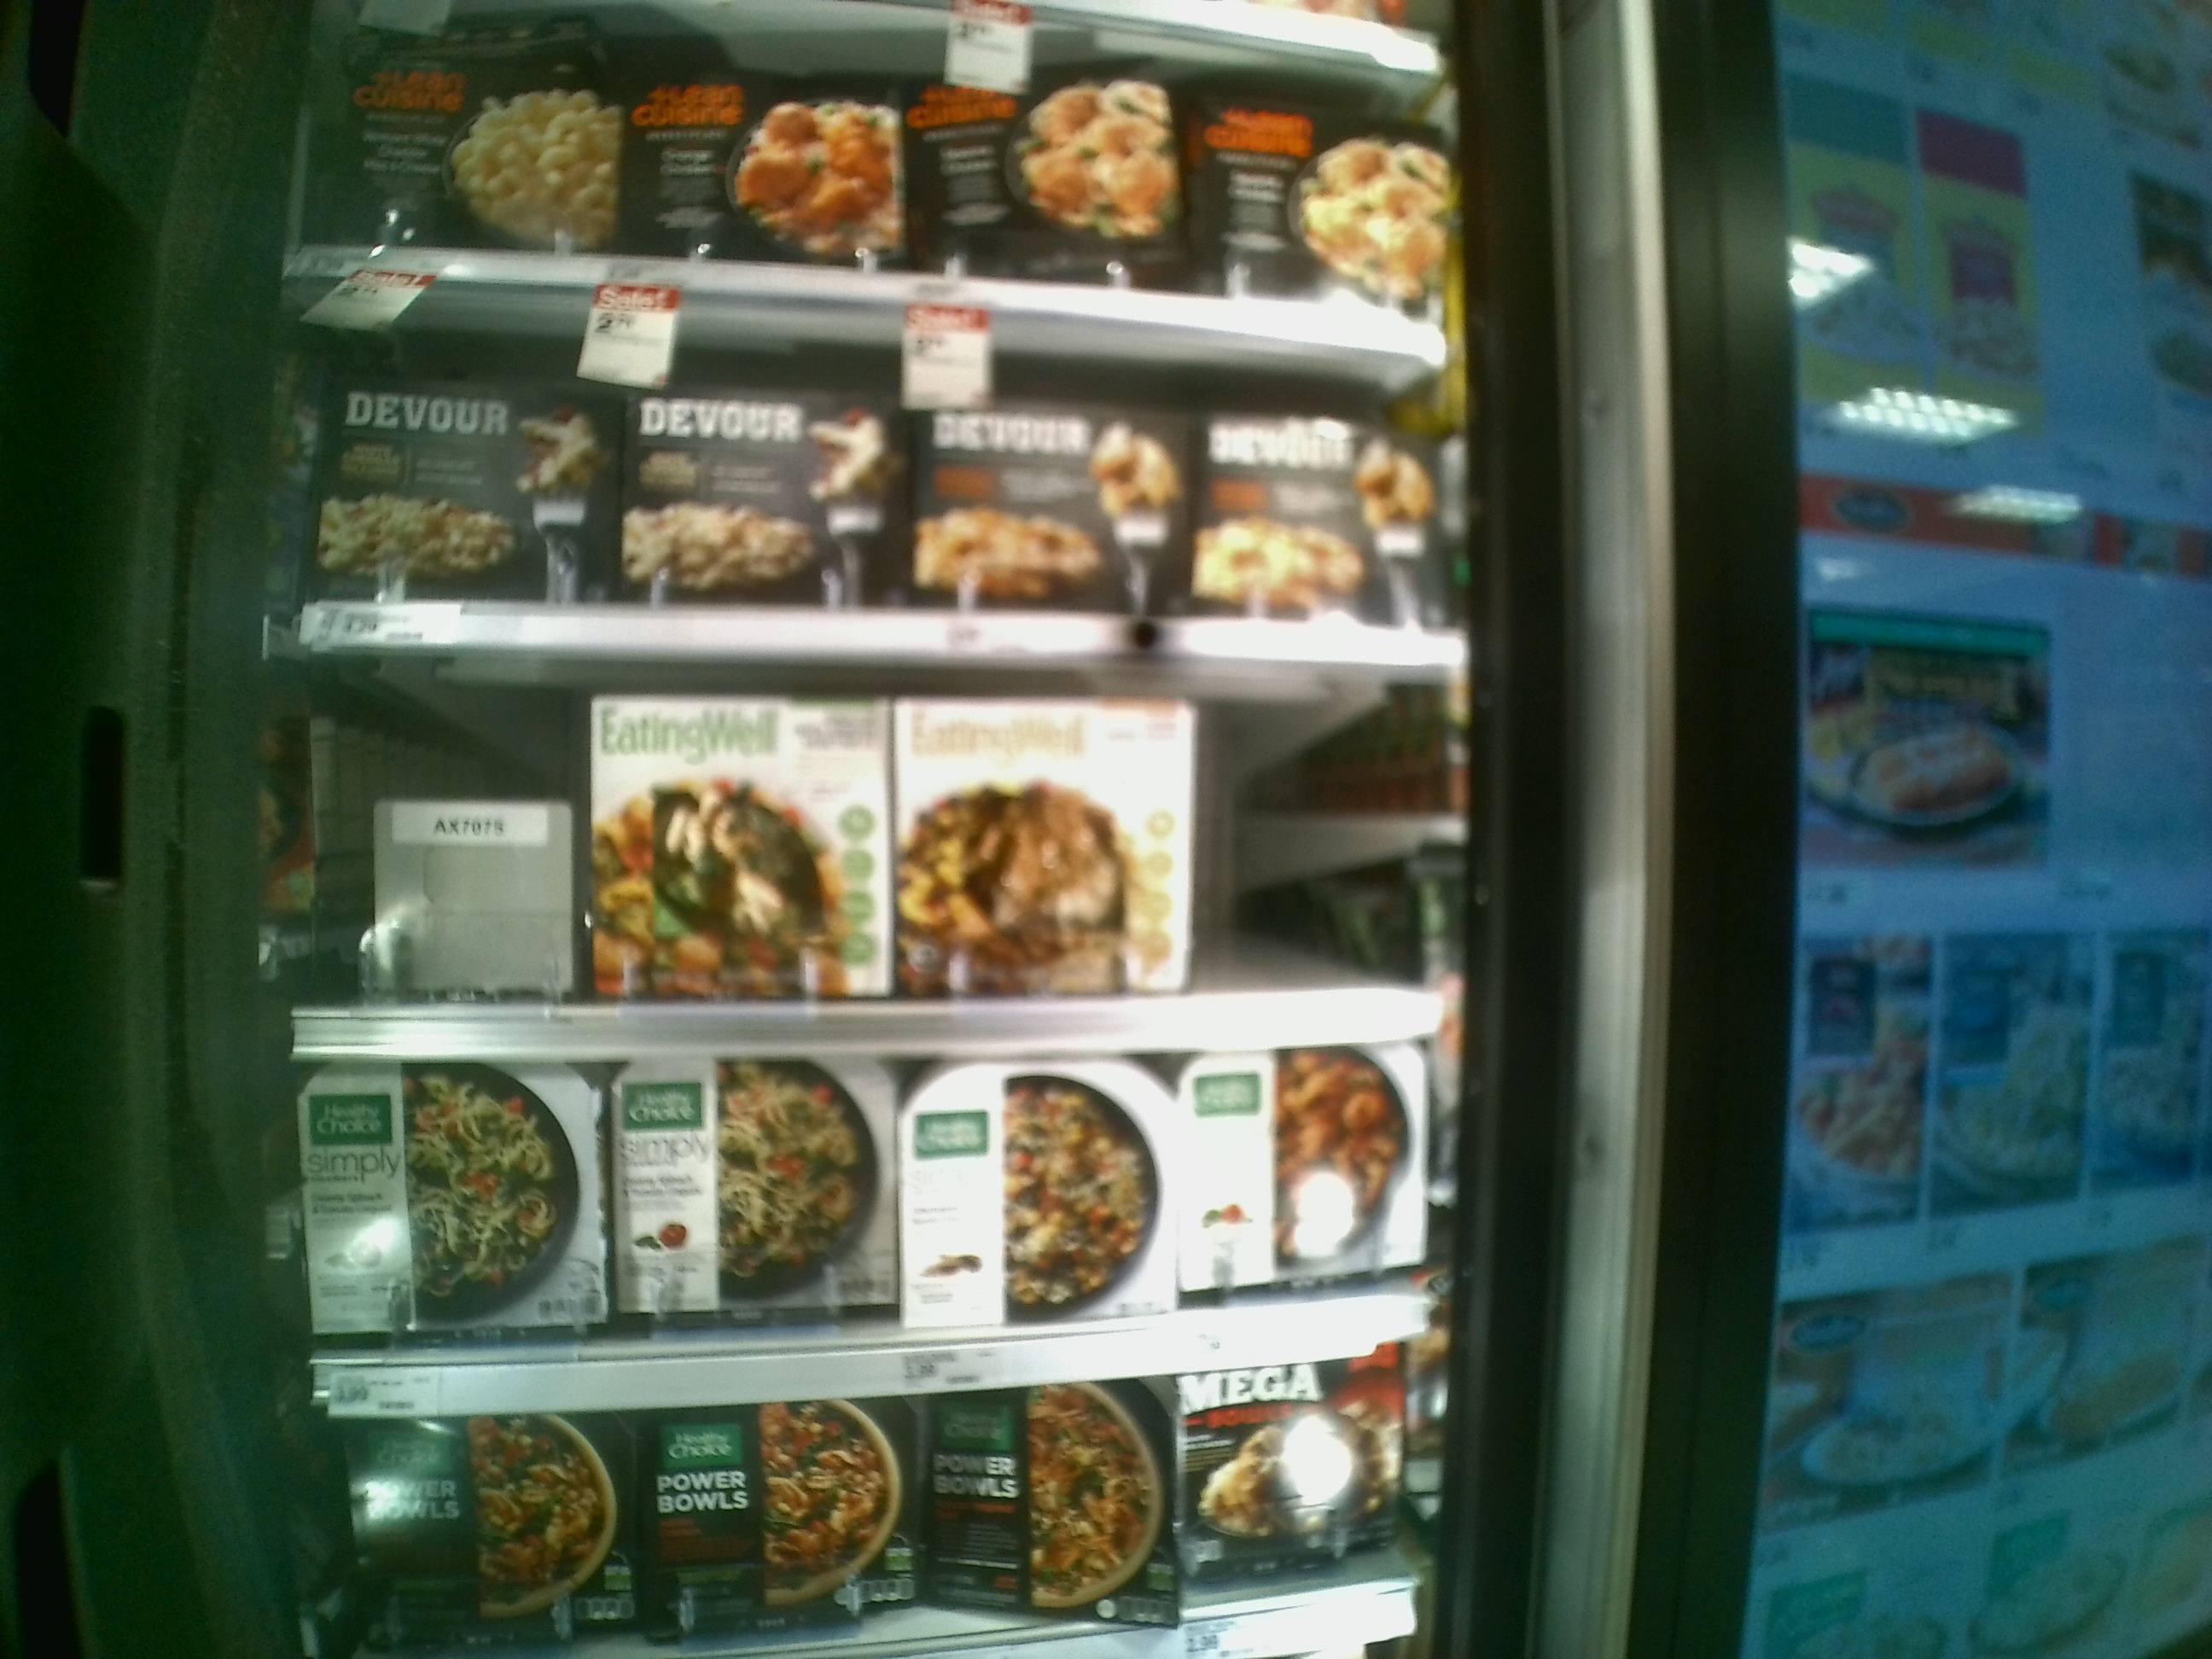shelf: (284, 641, 1453, 1044), (273, 268, 1467, 662), (287, 1047, 1472, 1420)
